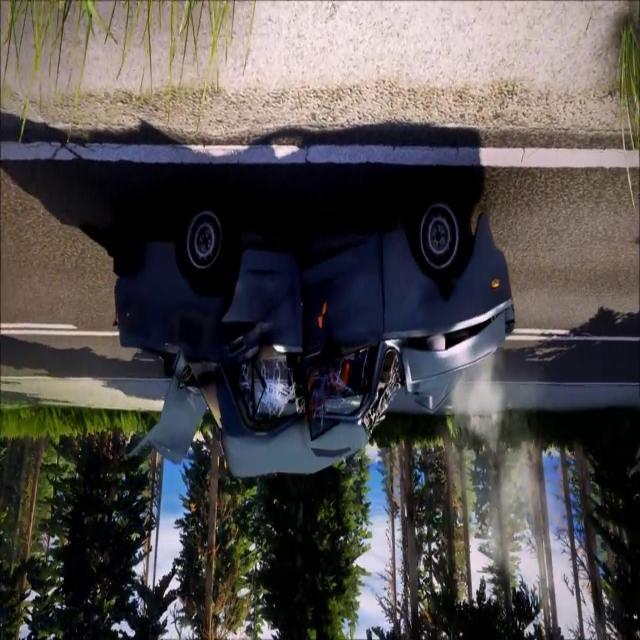severe: (108, 191, 520, 484)
